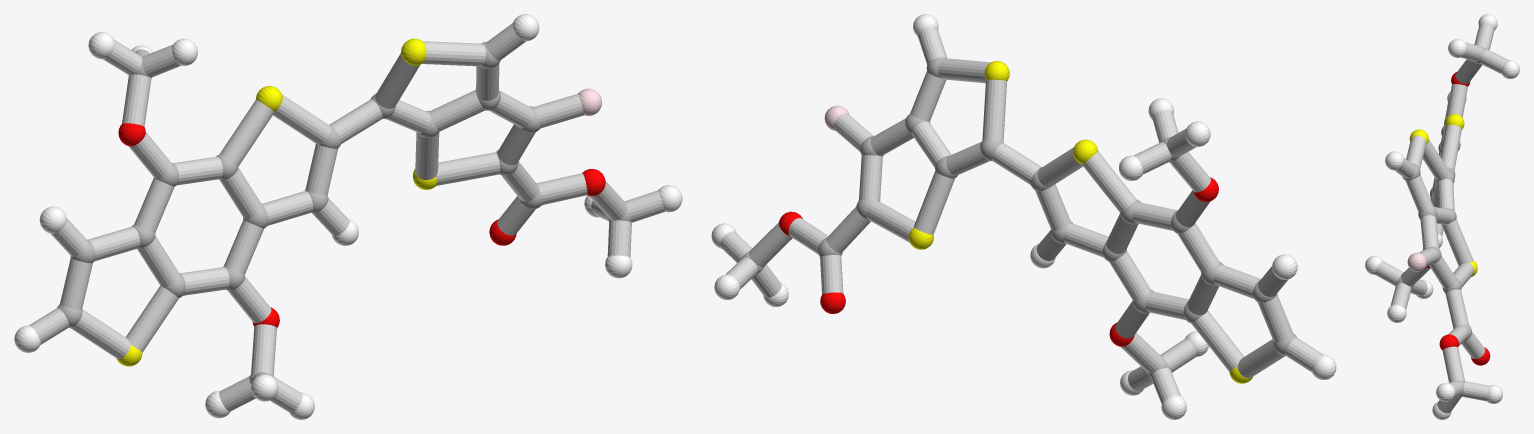
The model's file is Dimethoxy_Benzodithiophene_Phi_20_Theta_210_Methylcarbonyl_3_Fluoro_Thienothiophene.glb.
3 views of the same model, side by side, from view 1: azimuth 30°, elevation 25°; view 2: azimuth 150°, elevation 25°; view 3: azimuth 270°, elevation 25° (orthographic). The views are drawn at different scales.
Visible parts, largest first — view 1: grp15205, grp8689, grp1, grp7241, grp13395; view 2: grp15205, grp8689, grp1, grp7241, grp13395; view 3: grp15205, grp8689, grp1, grp13395, grp7241, grp14843.
Boxes of the visible parts, box(x1,y1,x2,y2) form: grp15205: box(29, 23, 664, 412); grp8689: box(14, 14, 682, 419); grp1: box(57, 42, 631, 383); grp7241: box(116, 38, 436, 366); grp13395: box(118, 123, 605, 327); grp15205: box(720, 28, 1322, 404); grp8689: box(711, 14, 1336, 419); grp1: box(741, 57, 1296, 378); grp7241: box(908, 61, 1252, 383); grp13395: box(779, 177, 1218, 346); grp15205: box(1375, 24, 1508, 413); grp8689: box(1365, 14, 1519, 419); grp1: box(1396, 46, 1487, 397); grp13395: box(1426, 72, 1490, 365); grp7241: box(1409, 114, 1477, 276); grp14843: box(1407, 252, 1426, 271).
Bounding box in the file's own units: 16.76 × 8.94 × 4.8.
